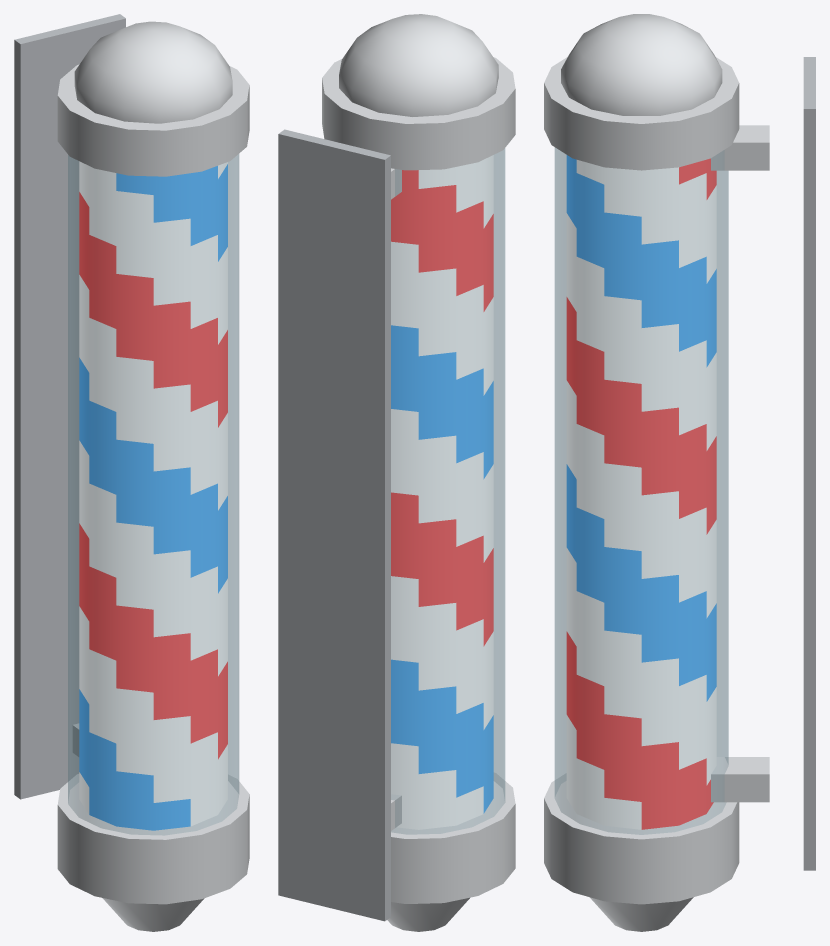
File: SC_Shop_Barber_Pole.gltf
The picture shows the model from 3 angles, left to right: view 1: azimuth 30°, elevation 25°; view 2: azimuth 150°, elevation 25°; view 3: azimuth 270°, elevation 25°; orthographic projection.
Visible parts, largest first — view 1: SC_Shop_Barber_Pole; view 2: SC_Shop_Barber_Pole; view 3: SC_Shop_Barber_Pole.
Part boxes in pixels (left/top/right/bottom): SC_Shop_Barber_Pole: left=14, top=14, right=249, bottom=931; SC_Shop_Barber_Pole: left=278, top=14, right=515, bottom=931; SC_Shop_Barber_Pole: left=544, top=14, right=815, bottom=931.
Size of the model in its own units: 0.1904 by 0.9646 by 0.2652.
3 materials, 3 textured.
